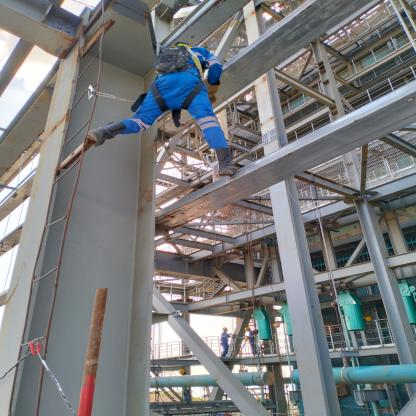bota: (80, 119, 129, 149), (210, 146, 245, 180)
